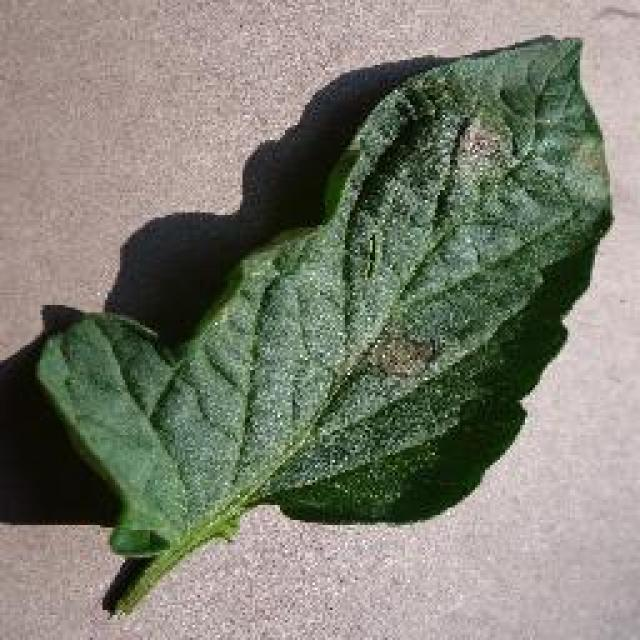Tomato late blight leaf: (33, 31, 620, 558)
